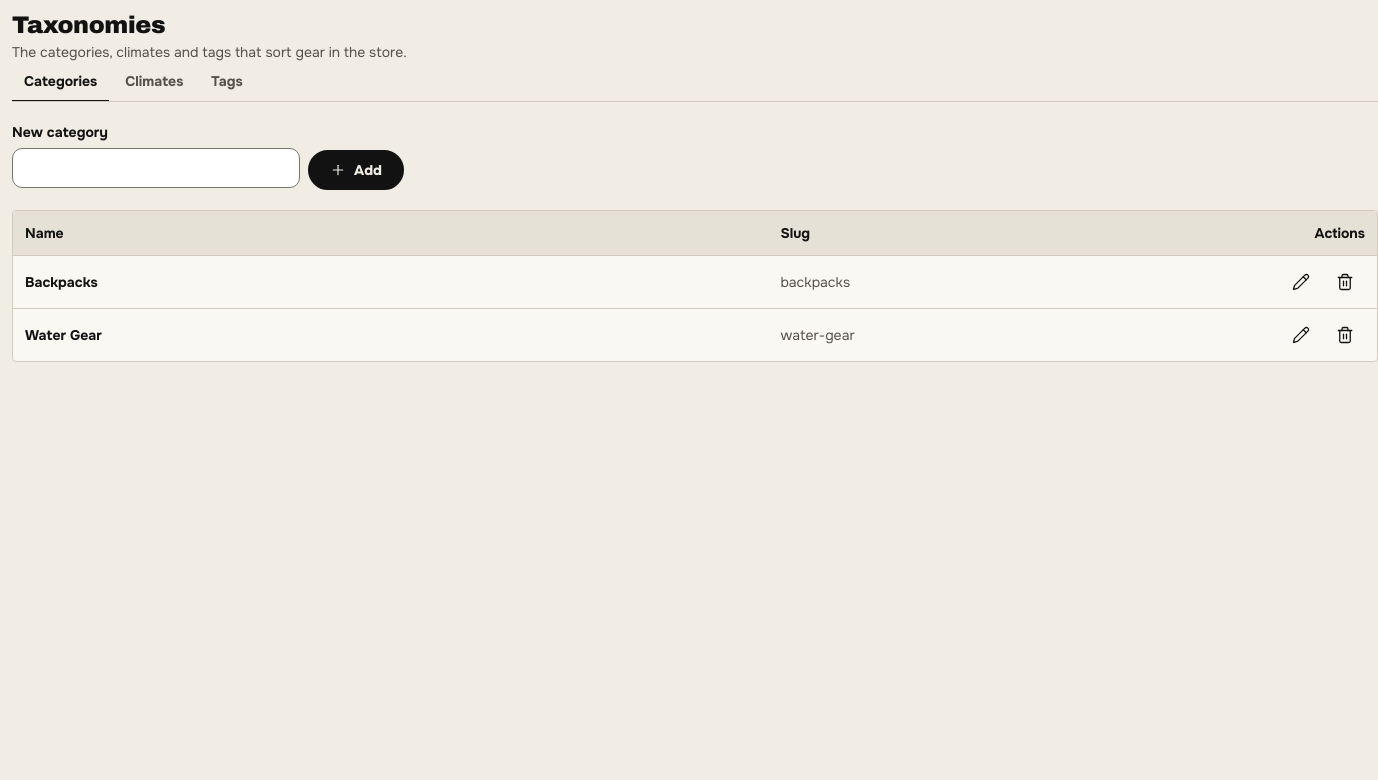
it: TaxonomiesPage › renames an item in place, with Enter, and drops a rename with Escape
Expected: the table named "Categories" is shown, [13,211,1377,361]
Expected: the text "Backpacks" is shown, [13,256,768,309]
Click the button named "Rename Water Gear" at (1301, 335), box [1281,315,1321,355]
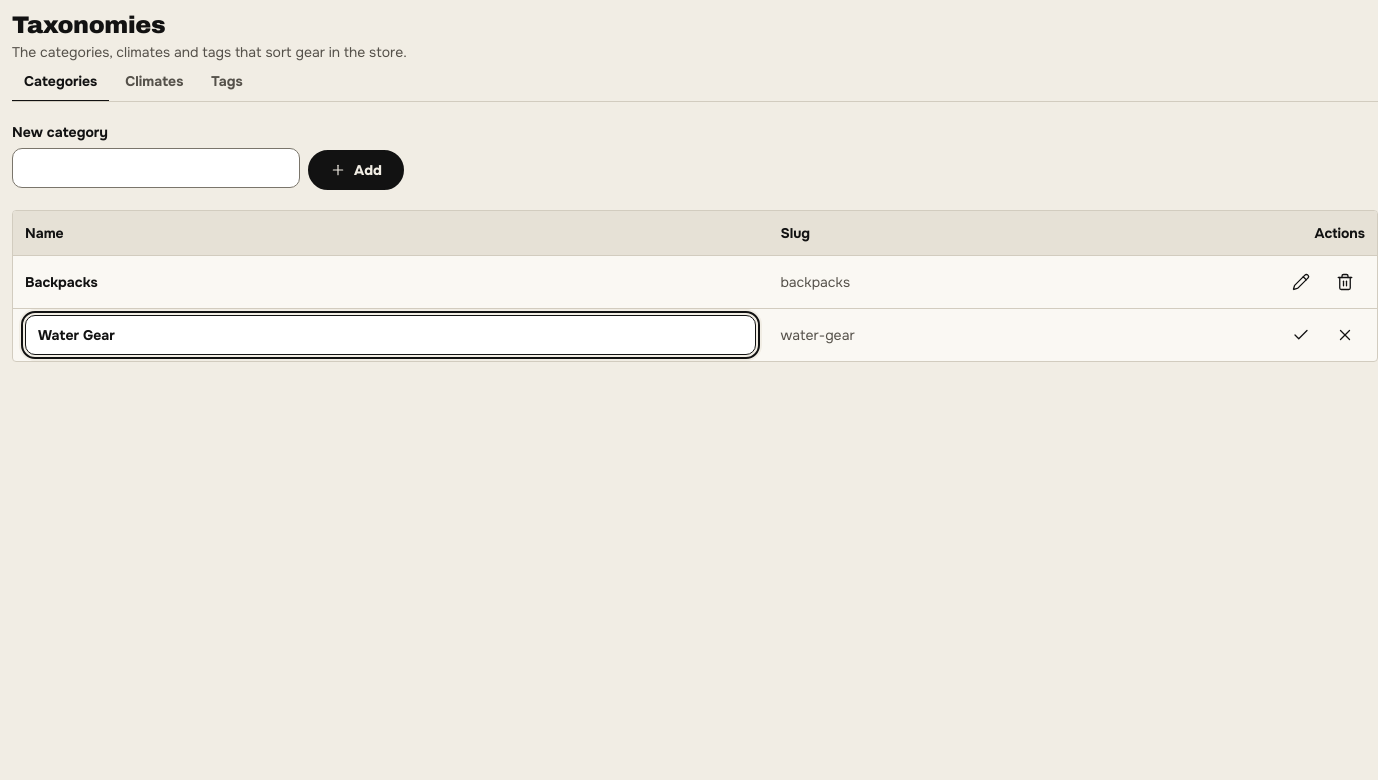
Press Escape
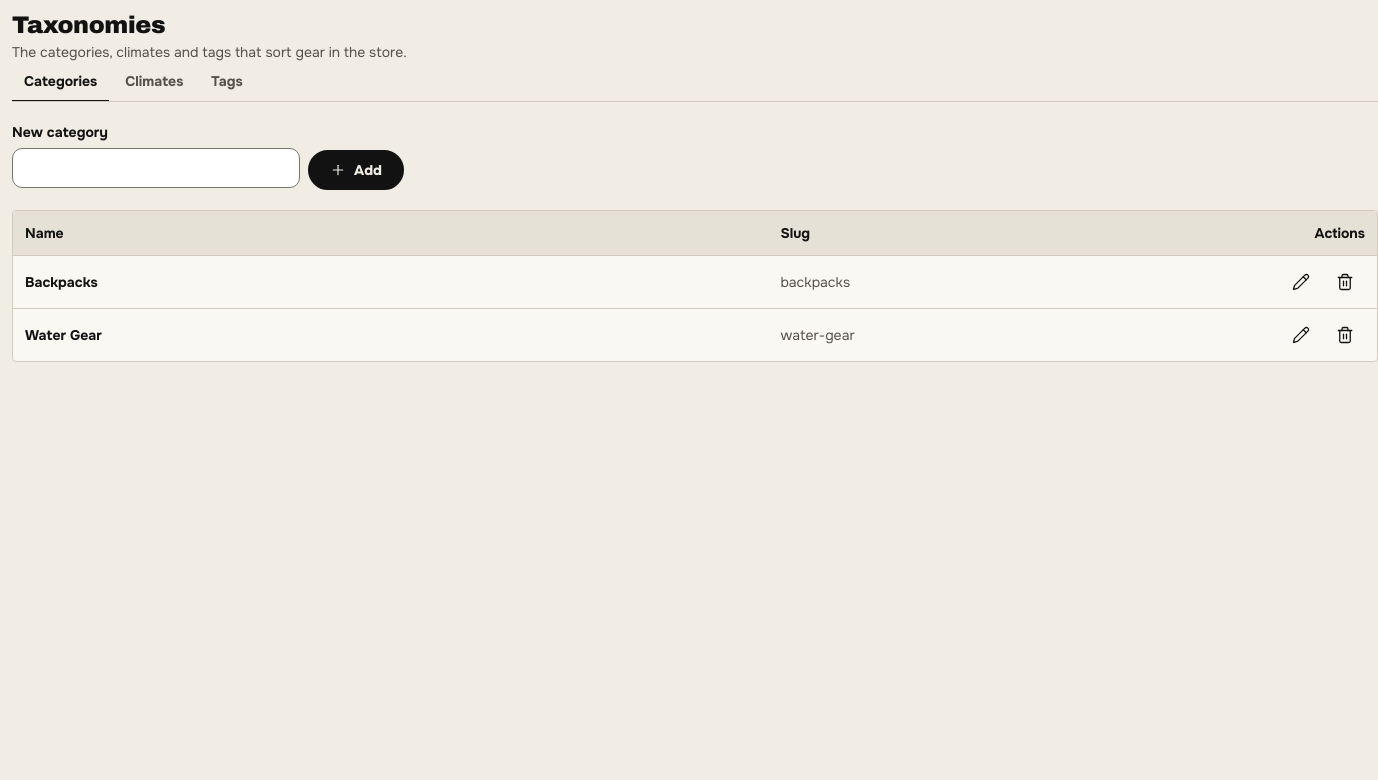
Click the button named "Rename Water Gear" at (1301, 335), box [1281,315,1321,355]
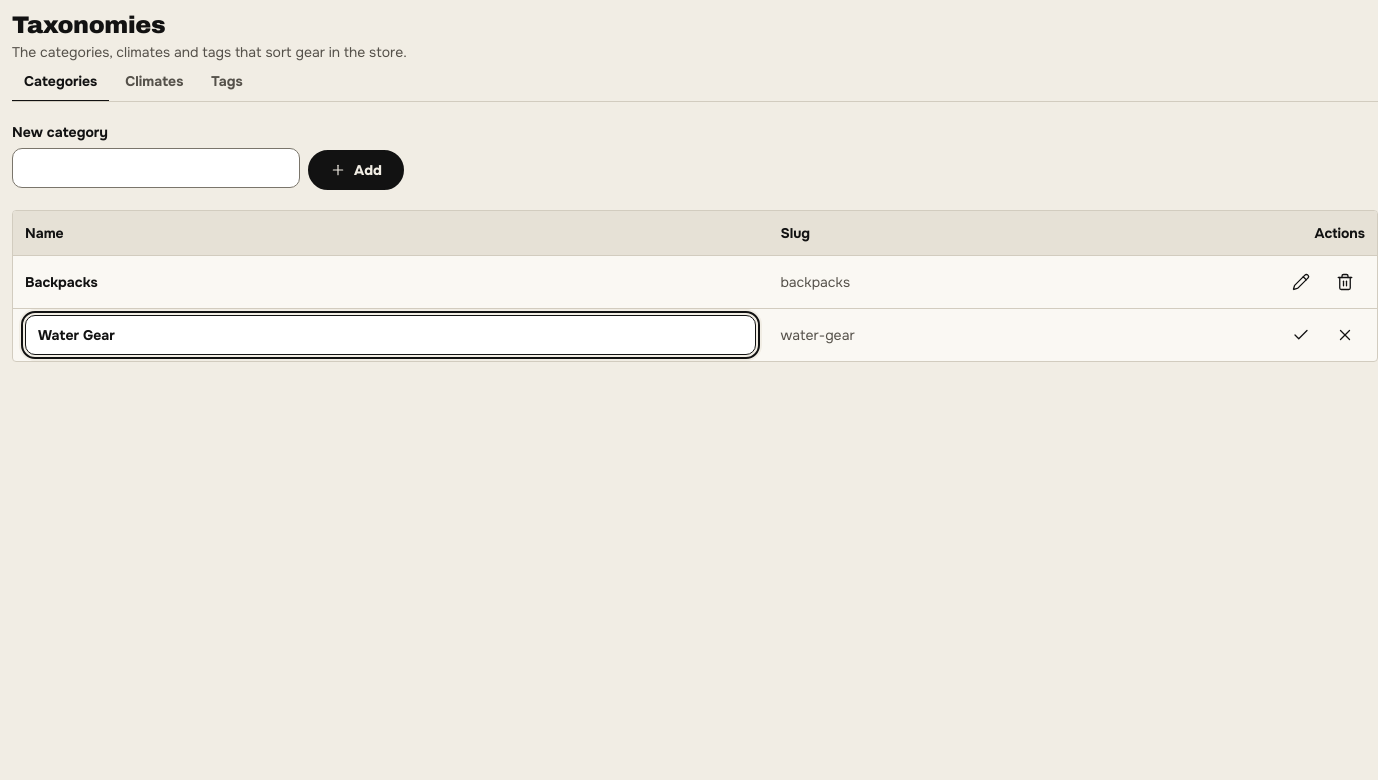
Clear the 2nd field at (391, 335), box [25,315,756,355]
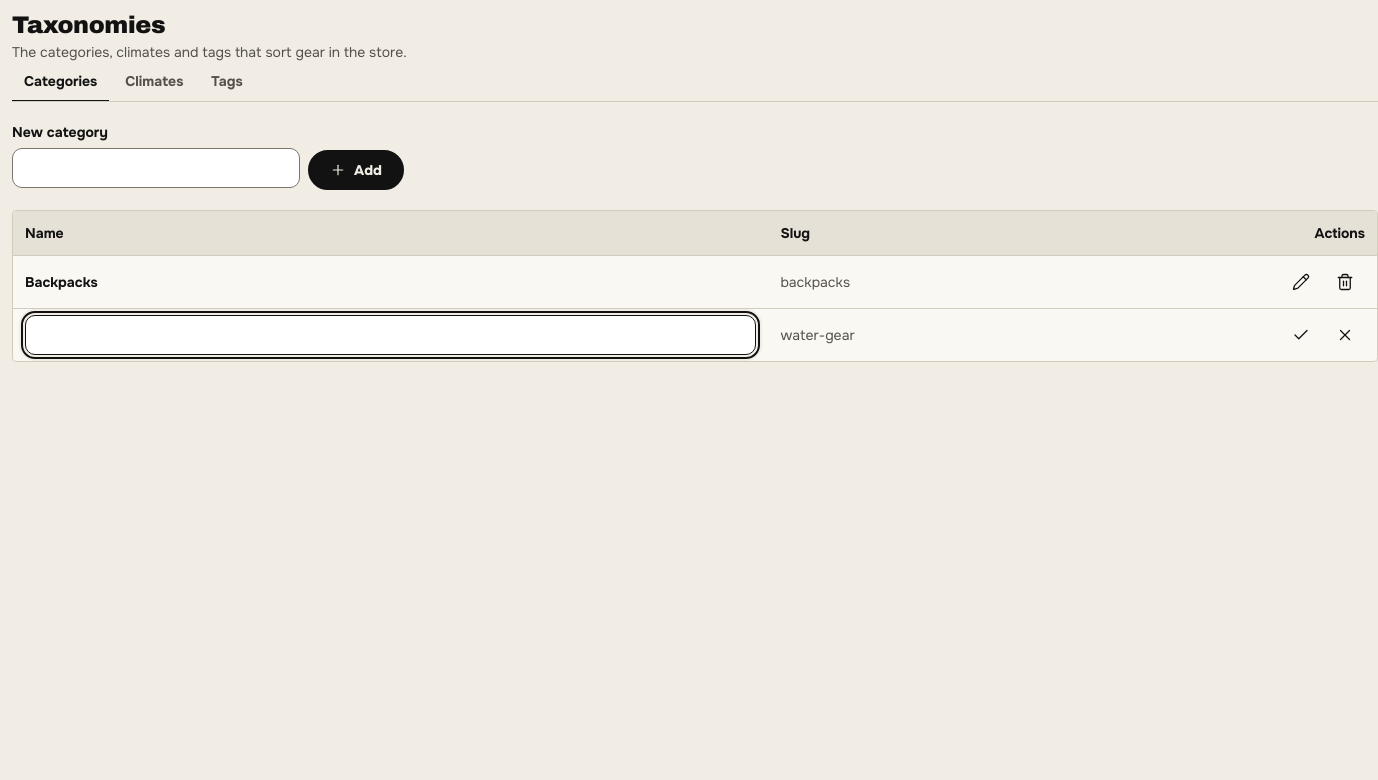
Click the button named "Save the new name for Water Gear" at (1301, 335), box [1281,315,1321,355]
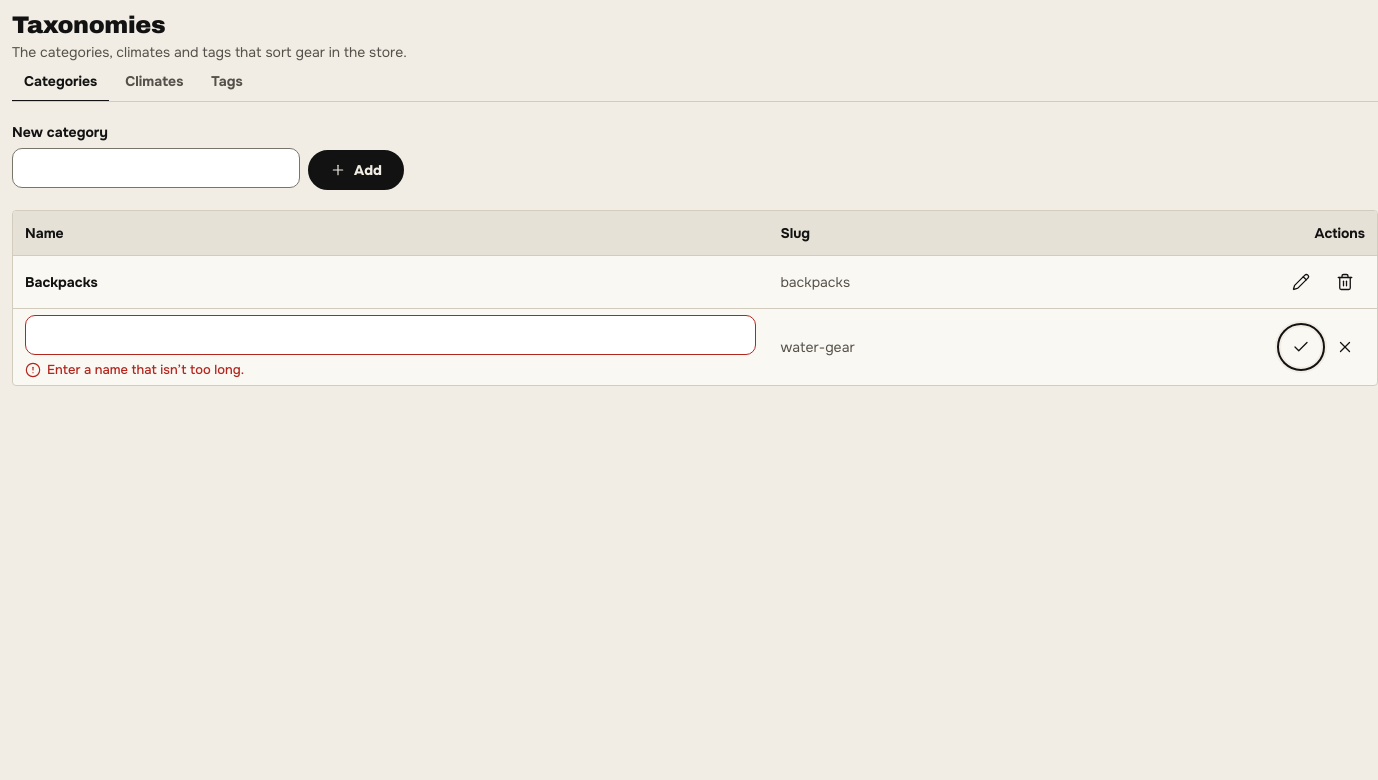
Type "Water Sports" into the 2nd field at (391, 335), box [25,315,756,355]
Then press Enter
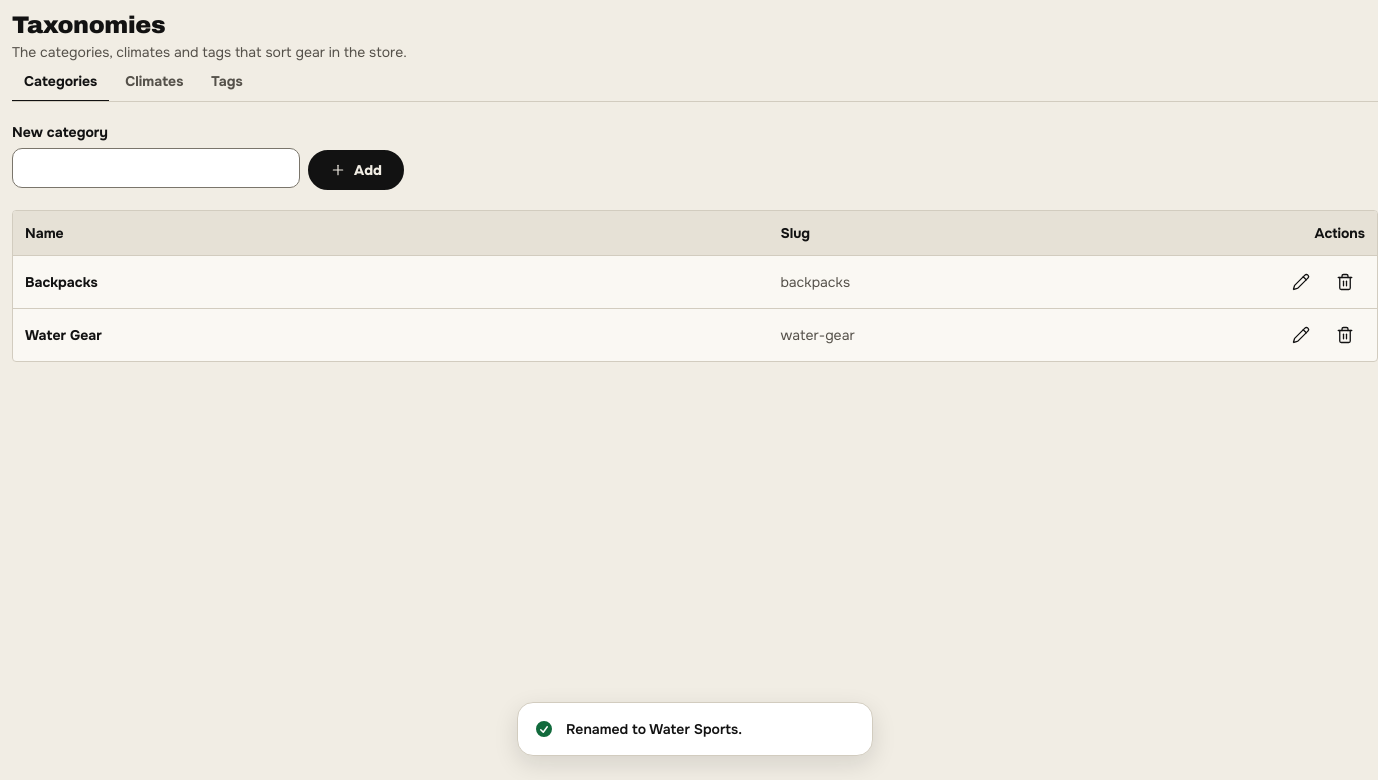
Expected: the text "Renamed to Water Sports." is shown, [566,719,742,739]
